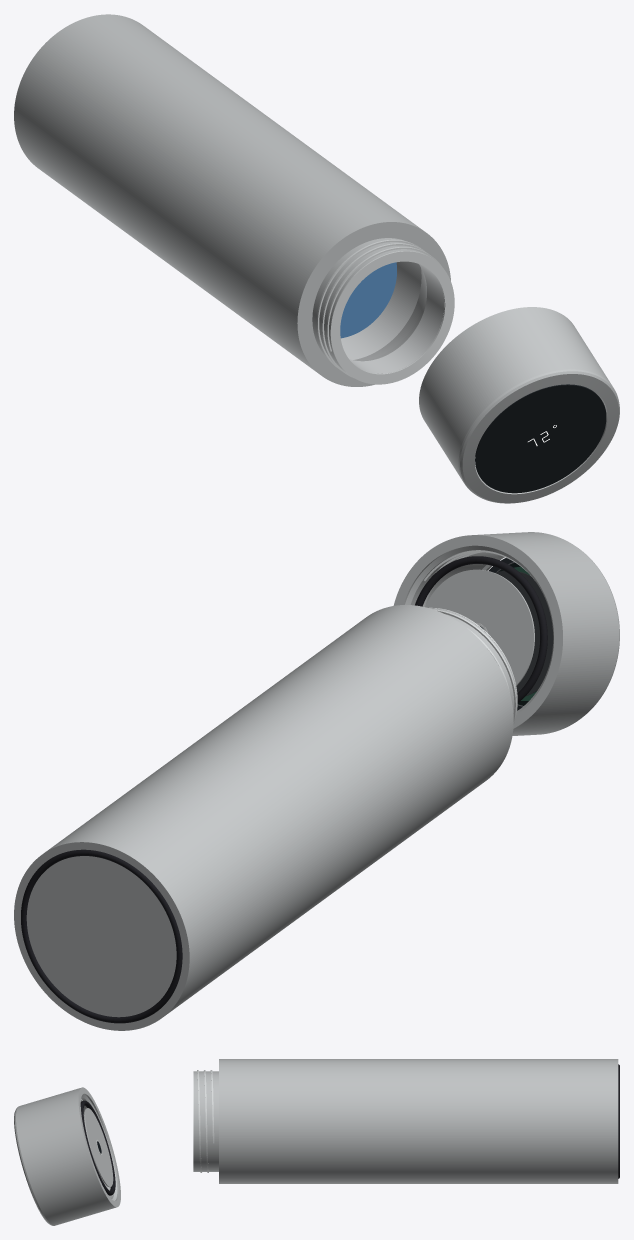
Rendered from AETHR_ONE_INSPECTION.glb.
3 views of the same model, one above another, from view 1: azimuth 30°, elevation 25°; view 2: azimuth 150°, elevation 25°; view 3: azimuth 270°, elevation 25° (orthographic). The views are drawn at different scales.
Visible parts, largest first — view 1: Outer_Shell, Crown_Shell, Crown_Glass, Inner_Vessel, Body_Shoulder, Mouth_Lip, Liquid_Volume, Neck_Sleeve, External_Thread; view 2: Outer_Shell, Bottom_Plate, Crown_Shell, AETHR_Sense_Plate, AntiSlip_Ring, Seal, Charging_Ferrite, Neck_Sleeve; view 3: Outer_Shell, Crown_Shell, Neck_Sleeve, AETHR_Sense_Plate, External_Thread, Seal, Bottom_Plate, Body_Shoulder.
Part boxes in pixels (left/top/right/bottom): Outer_Shell: left=15, top=15, right=421, bottom=372; Crown_Shell: left=419, top=307, right=619, bottom=503; Crown_Glass: left=475, top=384, right=606, bottom=493; Inner_Vessel: left=341, top=261, right=444, bottom=373; Body_Shoulder: left=296, top=221, right=450, bottom=386; Mouth_Lip: left=330, top=251, right=454, bottom=384; Liquid_Volume: left=340, top=262, right=396, bottom=338; Neck_Sleeve: left=312, top=238, right=429, bottom=371; External_Thread: left=317, top=239, right=441, bottom=377; Outer_Shell: left=46, top=605, right=512, bottom=1014; Bottom_Plate: left=14, top=841, right=190, bottom=1030; Crown_Shell: left=393, top=532, right=619, bottom=735; AETHR_Sense_Plate: left=425, top=569, right=534, bottom=685; AntiSlip_Ring: left=21, top=849, right=182, bottom=1023; Seal: left=415, top=556, right=547, bottom=702; Charging_Ferrite: left=494, top=571, right=553, bottom=695; Neck_Sleeve: left=430, top=608, right=516, bottom=713; Outer_Shell: left=220, top=1059, right=616, bottom=1183; Crown_Shell: left=14, top=1087, right=120, bottom=1225; Neck_Sleeve: left=194, top=1071, right=218, bottom=1171; AETHR_Sense_Plate: left=84, top=1108, right=113, bottom=1187; External_Thread: left=197, top=1070, right=214, bottom=1172; Seal: left=80, top=1100, right=115, bottom=1195; Bottom_Plate: left=616, top=1059, right=618, bottom=1183; Body_Shoulder: left=219, top=1059, right=220, bottom=1183.
Size of the model in its own units: 0.0959 by 0.0954 by 0.3687.
